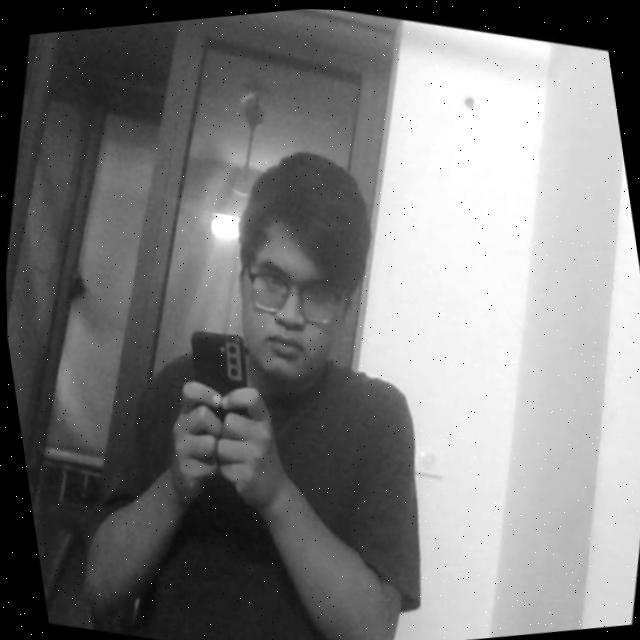phone: (151, 302, 277, 458)
